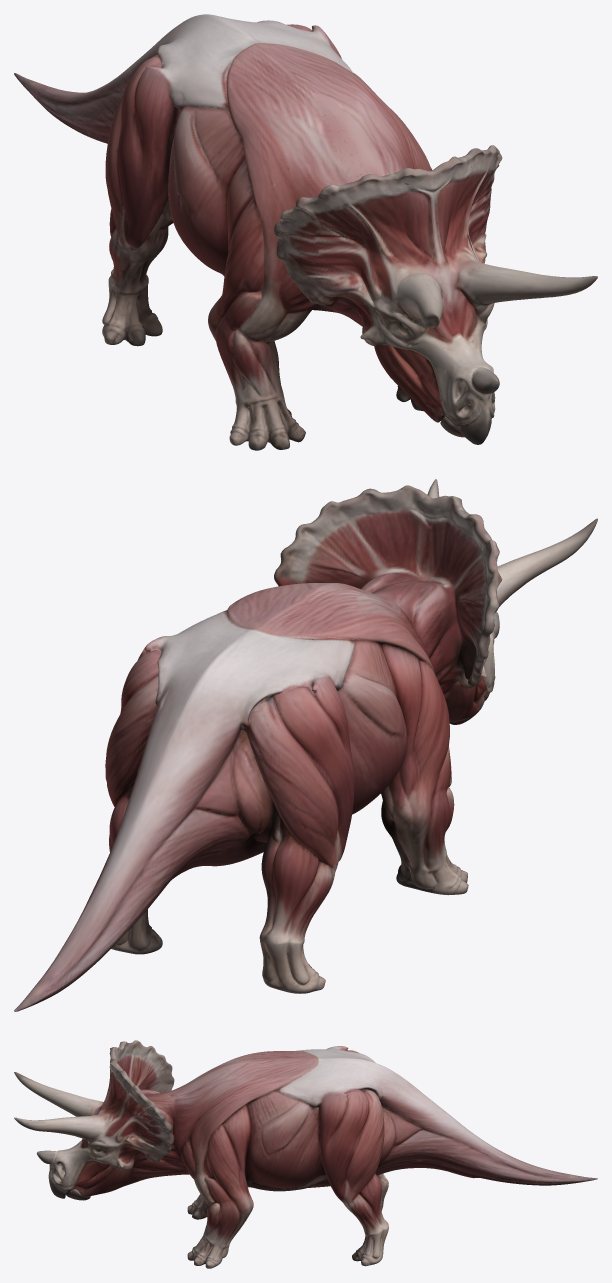
Rendered from tri_muscle.glb.
The picture shows the model from 3 angles, top to bottom: view 1: azimuth 30°, elevation 25°; view 2: azimuth 150°, elevation 25°; view 3: azimuth 270°, elevation 25°; orthographic projection. The views are drawn at different scales.
Visible parts, largest first — view 1: node_0; view 2: node_0; view 3: node_0.
Part boxes in pixels (<box>): node_0: <box>14,14,597,450</box>; node_0: <box>14,479,597,1011</box>; node_0: <box>14,1040,597,1268</box>.
Size of the model in its own units: 0.3154 by 0.3998 by 1.16.
1 material, 1 textured.
